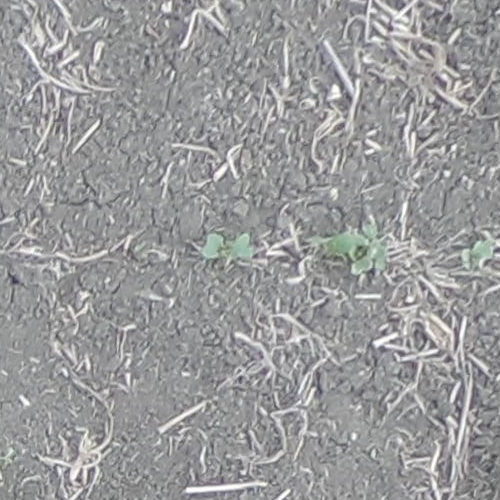plant: (328, 225, 386, 274), (203, 232, 253, 262), (461, 239, 495, 268)
